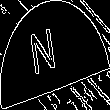N_S: (39, 26, 71, 84)
